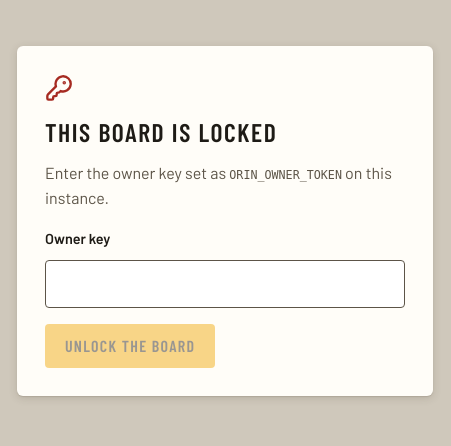
Test: owner session › shows why an unlock failed with HTTP 401
The image size is (451, 446).
Check: the heading "This board is locked" is shown, box [45, 116, 277, 147]
In the password field labelled "Owner key": point(225, 284) [45, 260, 405, 308], type "synthetic-owner-key-for-tests-only"
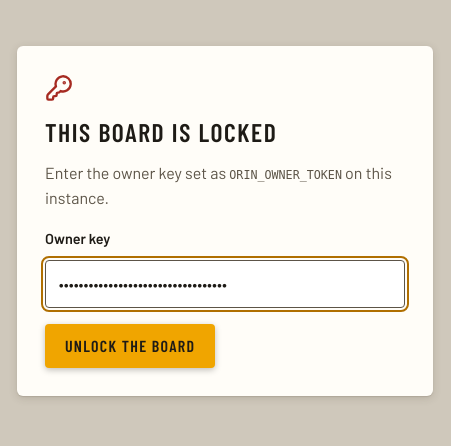
Click the button "Unlock the board": point(130, 346) [45, 324, 215, 368]
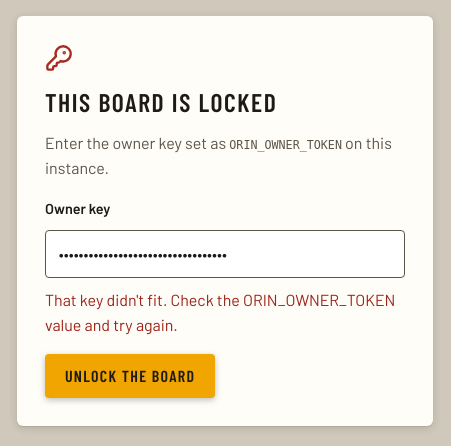
Check: the button "Unlock the board" is enabled, box [45, 354, 215, 398]
Check: the message shows "That key didn't fit", box [45, 290, 395, 334]
